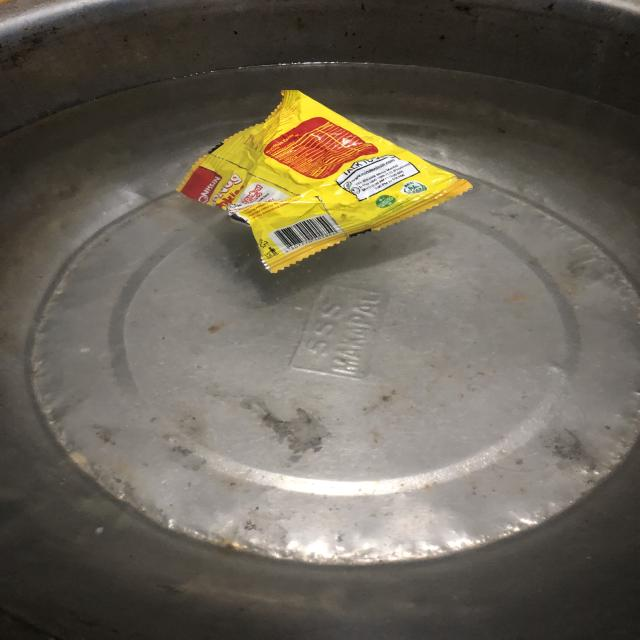Plastic Wrapper: (170, 70, 496, 297)
